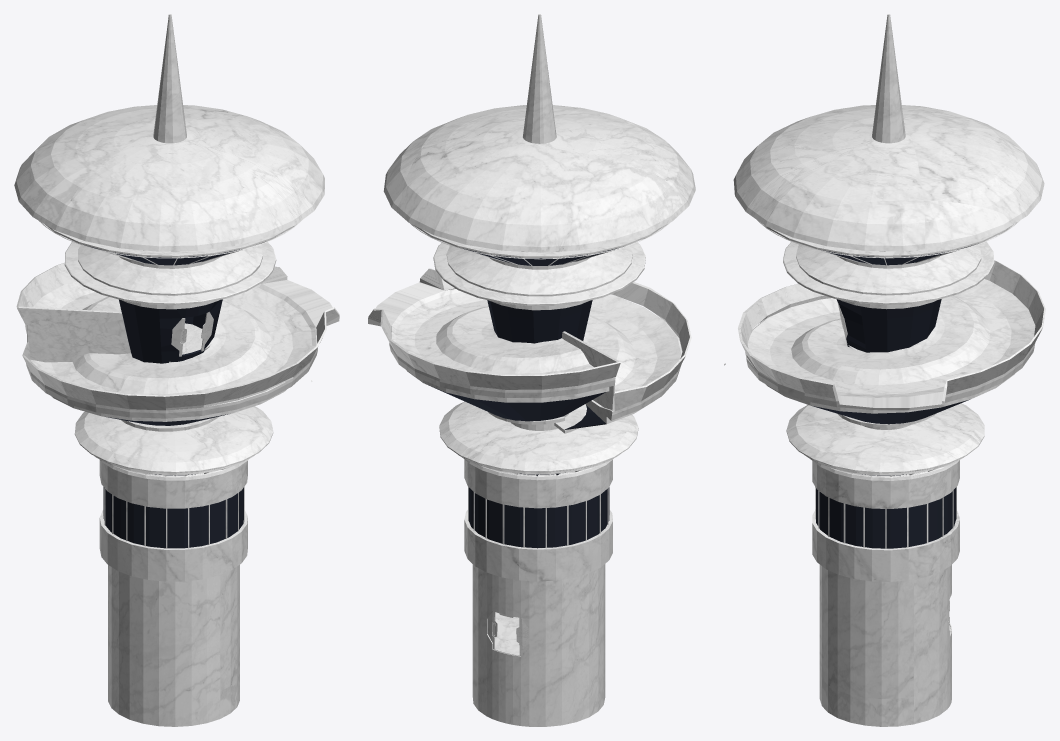
The model's file is center building.fbx.
3 views of the same model, side by side, from view 1: azimuth 30°, elevation 25°; view 2: azimuth 150°, elevation 25°; view 3: azimuth 270°, elevation 25° (orthographic).
Visible parts, largest first — view 1: Center_building1; view 2: Center_building1; view 3: Center_building1.
Boxes of the visible parts, left/top/right/bottom form: Center_building1: left=14, top=14, right=339, bottom=726; Center_building1: left=368, top=14, right=695, bottom=726; Center_building1: left=724, top=14, right=1045, bottom=726.
Bounding box in the file's own units: 1898 × 4323 × 1845.
Materials: 2 (1 with a texture image).
